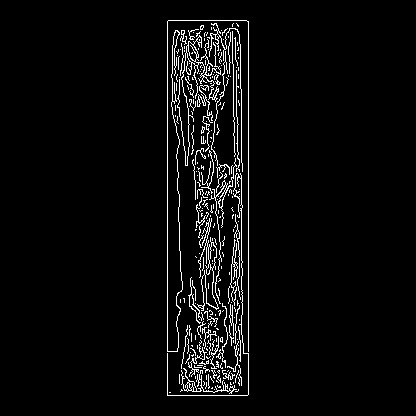buddha-standing: (38, 206, 211, 208)
